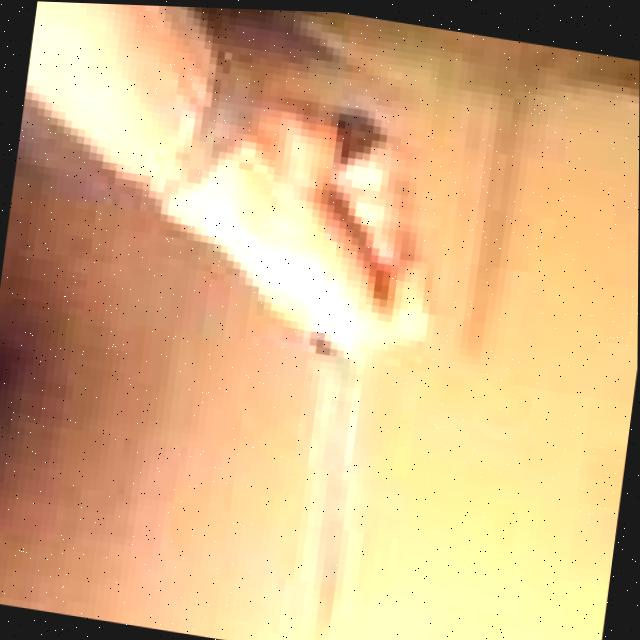knife: (266, 337, 391, 640)
